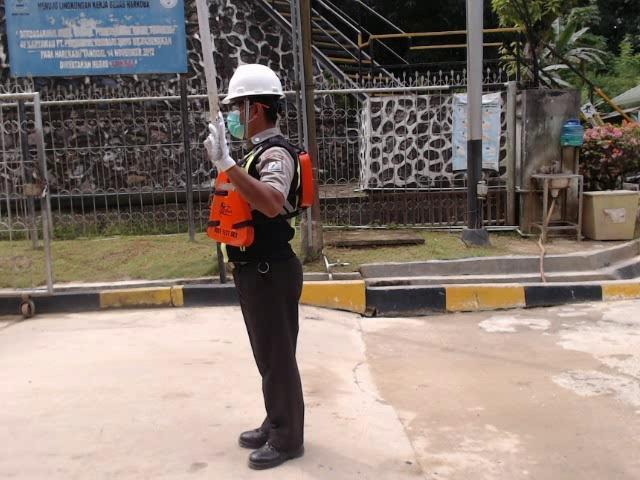vest: (207, 153, 317, 247)
